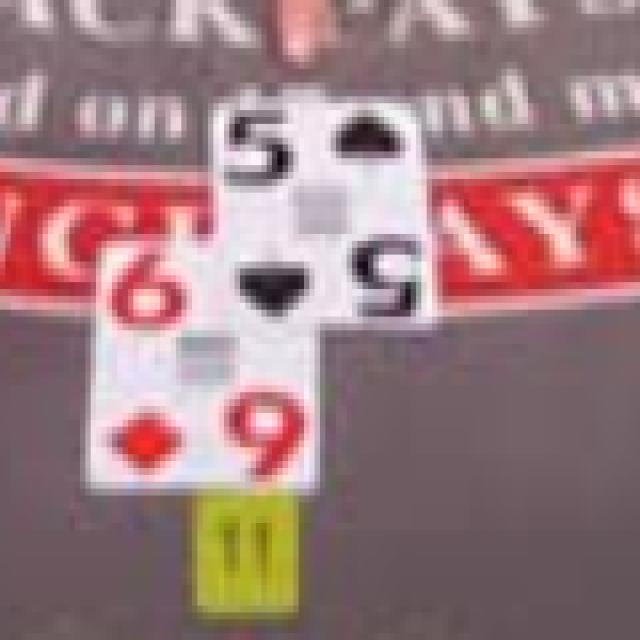Card-5: (217, 100, 432, 330)
Card-6: (91, 234, 320, 499)
